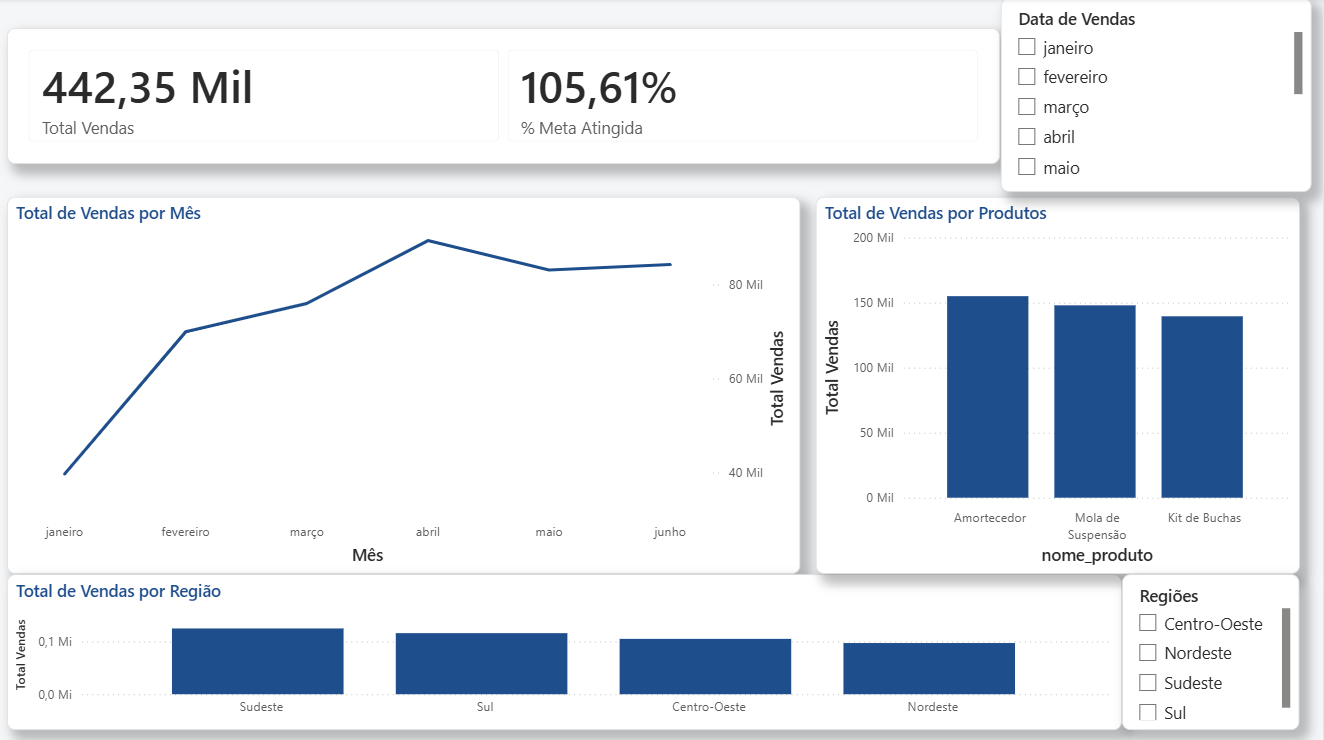

Layout of this report page (visuals, bound fields, positions):
{"tool":"powerbi","page":{"name":"Página 1","canvas":[1280,720],"ordinal":0},"visuals":[{"type":"cardVisual","fields":{"Data":["fato_vendas.Total Vendas","fato_vendas.% Meta Atingida"]},"box":[10,28.6,958.6,131.4],"z":0},{"type":"lineChart","title":"Total de Vendas por Mês","fields":{"Category":["fato_vendas.data_venda.Variation.Hierarquia de datas.Mês"],"Y2":["fato_vendas.Total Vendas"]},"box":[10,191.4,765.7,364.3],"z":1000},{"type":"clusteredColumnChart","title":"Total de Vendas por Região","fields":{"Category":["dim_regiao.nome_regiao"],"Y":["fato_vendas.Total Vendas"]},"box":[10,555.7,1075.7,150],"z":2000},{"type":"clusteredColumnChart","title":"Total de Vendas por Produtos","fields":{"Category":["dim_produto.nome_produto"],"Y":["fato_vendas.Total Vendas"]},"box":[790,191.4,467.1,364.3],"z":3000},{"type":"slicer","fields":{"Values":["dim_regiao.nome_regiao"]},"box":[1085.7,555.7,171.4,150],"z":4000},{"type":"slicer","fields":{"Values":["fato_vendas.data_venda.Variation.Hierarquia de datas.Mês"]},"box":[968.6,0,300,187.1],"z":5000}]}

Visuals, with their boxes in screenshot pixels (x1, y1, x2, y2), scaled from the page's 1280x720 canvas onto the 1324x740 screenshot:
cardVisual - fato_vendas.Total Vendas x fato_vendas.% Meta Atingida: bbox(10, 29, 1002, 164)
"Total de Vendas por Mês" lineChart: bbox(10, 197, 802, 571)
"Total de Vendas por Região" clusteredColumnChart: bbox(10, 571, 1123, 725)
"Total de Vendas por Produtos" clusteredColumnChart: bbox(817, 197, 1300, 571)
slicer - dim_regiao.nome_regiao: bbox(1123, 571, 1300, 725)
slicer - fato_vendas.data_venda.Variation.Hierarquia de datas.Mês: bbox(1002, 0, 1312, 192)
